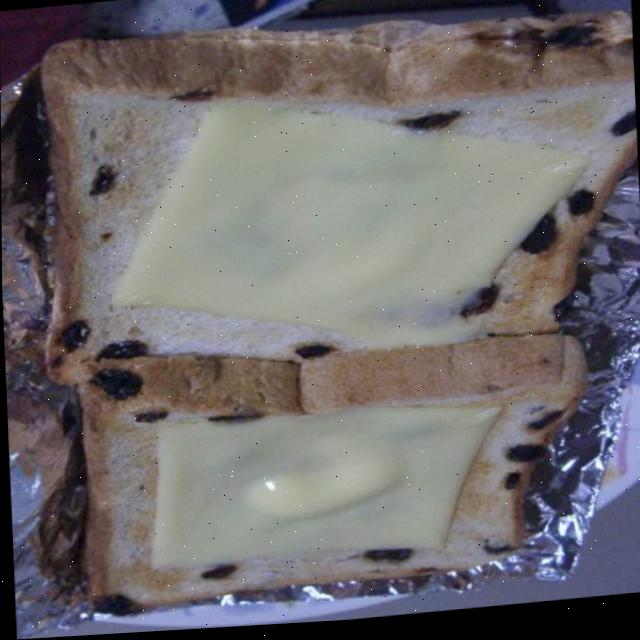面包点心: (32, 0, 637, 639)
